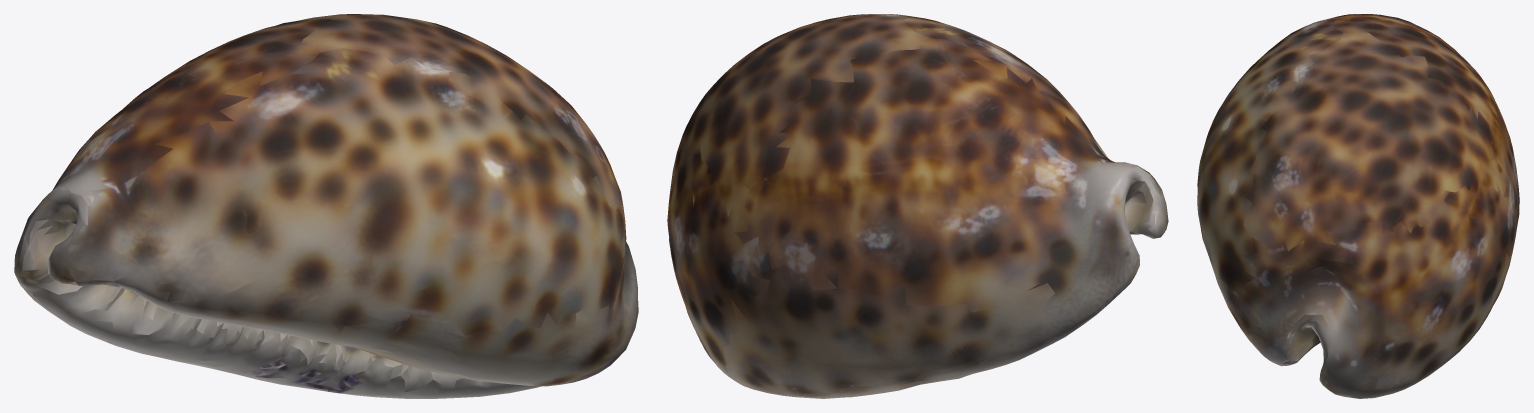
File: kolaShell.fbx
3 renders of one model, left to right at view 1: azimuth 30°, elevation 25°; view 2: azimuth 150°, elevation 25°; view 3: azimuth 270°, elevation 25°, orthographic. The views are drawn at different scales.
Visible parts, largest first — view 1: 571.13; view 2: 571.13; view 3: 571.13.
Part boxes in pixels (x1=…): 571.13: x1=14, y1=14, x2=638, y2=398; 571.13: x1=667, y1=14, x2=1168, y2=398; 571.13: x1=1197, y1=14, x2=1519, y2=398.
Size of the model in its own units: 6564 by 4543 by 4500.
1 material, 1 textured.
